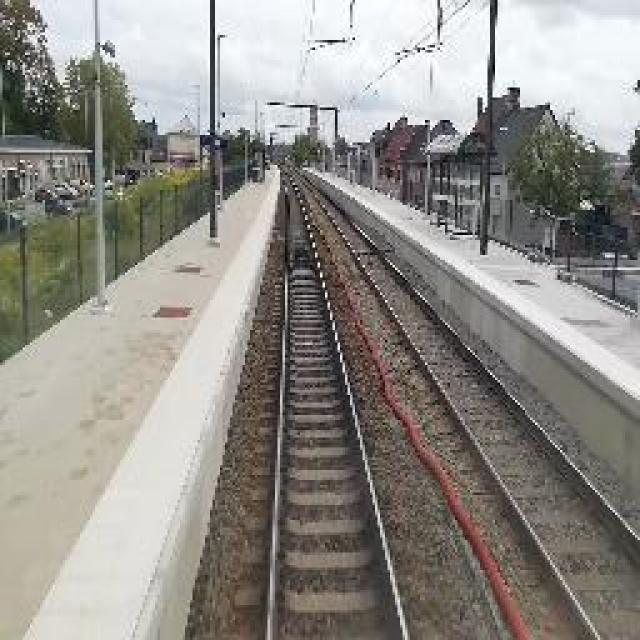rail: (231, 160, 437, 640)
